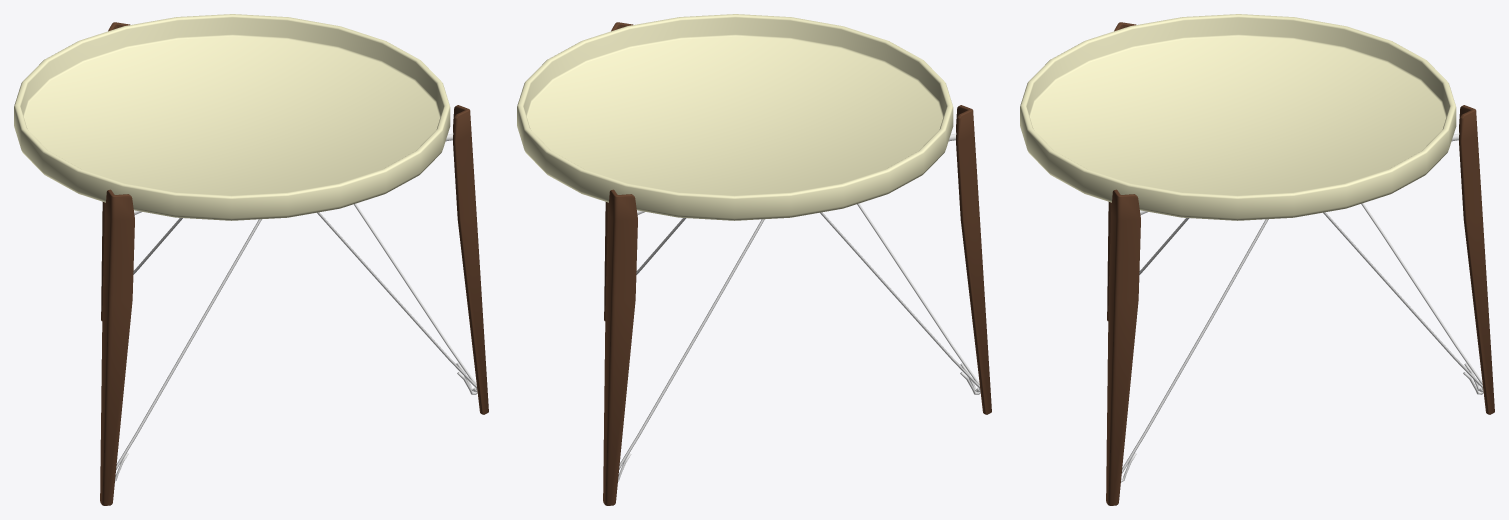
The model's file is Table4.fbx.
3 views of the same model, side by side, from view 1: azimuth 30°, elevation 25°; view 2: azimuth 150°, elevation 25°; view 3: azimuth 270°, elevation 25° (orthographic).
Visible parts, largest first — view 1: Table Coffee 006, Table Coffee 006_21, Table Coffee 006_22, Table Coffee 006_19, Table Coffee 006_20, Table Coffee 006_5; view 2: Table Coffee 006, Table Coffee 006_23, Table Coffee 006_21, Table Coffee 006_4, Table Coffee 006_2, Table Coffee 006_19; view 3: Table Coffee 006, Table Coffee 006_22, Table Coffee 006_23, Table Coffee 006_5, Table Coffee 006_3, Table Coffee 006_4.
Boxes of the visible parts, <box> form: Table Coffee 006: <box>14,14,450,220</box>; Table Coffee 006_21: <box>100,189,134,505</box>; Table Coffee 006_22: <box>453,105,488,414</box>; Table Coffee 006_19: <box>115,219,261,481</box>; Table Coffee 006_20: <box>317,212,477,394</box>; Table Coffee 006_5: <box>354,203,476,391</box>; Table Coffee 006: <box>517,14,953,220</box>; Table Coffee 006_23: <box>603,189,637,505</box>; Table Coffee 006_21: <box>956,105,991,414</box>; Table Coffee 006_4: <box>618,219,764,481</box>; Table Coffee 006_2: <box>820,212,980,394</box>; Table Coffee 006_19: <box>857,203,979,392</box>; Table Coffee 006: <box>1020,14,1456,220</box>; Table Coffee 006_22: <box>1106,189,1140,505</box>; Table Coffee 006_23: <box>1459,105,1494,414</box>; Table Coffee 006_5: <box>1121,219,1268,482</box>; Table Coffee 006_3: <box>1323,212,1483,394</box>; Table Coffee 006_4: <box>1361,203,1482,391</box>.
Size of the model in its own units: 75.93 by 57.75 by 80.96.
